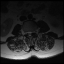CCS_normal: (29, 29, 30, 38)
LFS_normal: (32, 28, 34, 34)
LLS_stenosis: (30, 29, 32, 36)
RFS_normal: (24, 29, 27, 36)
RLS_normal: (27, 29, 29, 37)
